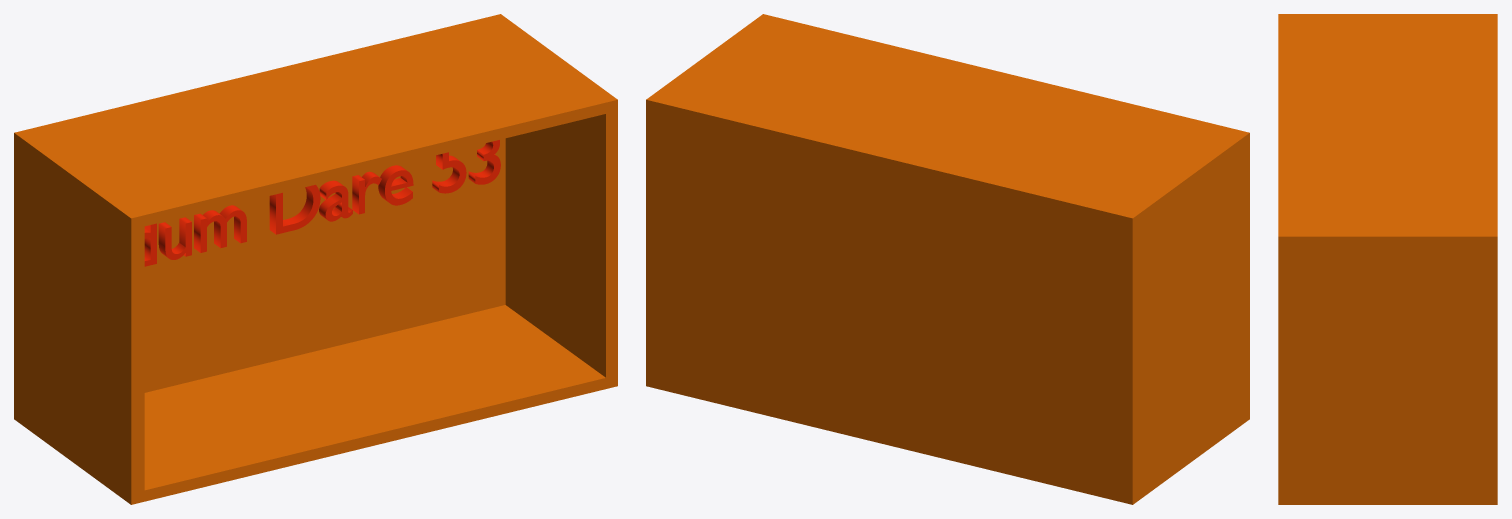
Rendered from BackgroundBox.fbx.
3 renders of one model, left to right at view 1: azimuth 30°, elevation 25°; view 2: azimuth 150°, elevation 25°; view 3: azimuth 270°, elevation 25°, orthographic. The views are drawn at different scales.
Visible parts, largest first — view 1: Cube; view 2: Cube; view 3: Cube.
Part boxes in pixels (box(x1,y1,x2,y2)): Cube: box(14, 14, 617, 504); Cube: box(646, 14, 1249, 504); Cube: box(1278, 14, 1497, 504).
Bounding box in the file's own units: 3840 × 2160 × 1600.
